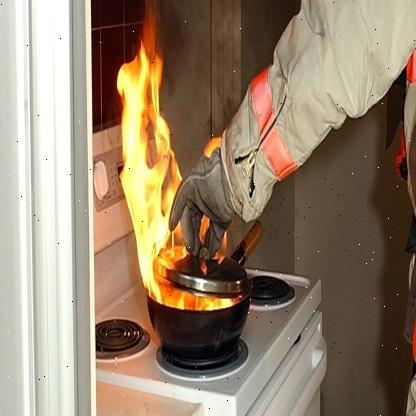fire: (113, 15, 185, 315)
